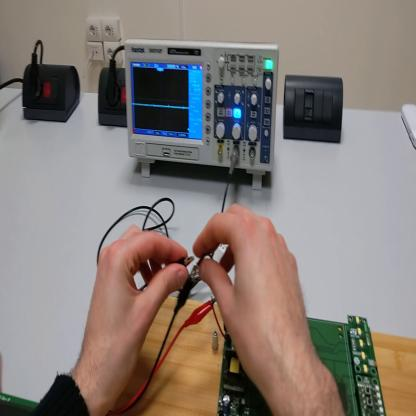hand: (195, 204, 319, 393), (80, 226, 190, 395)
low voltage board: (199, 254, 387, 416)
oscilloscope: (124, 33, 284, 189)
socket: (21, 62, 81, 125), (98, 63, 127, 127)
working area: (110, 274, 416, 415)
